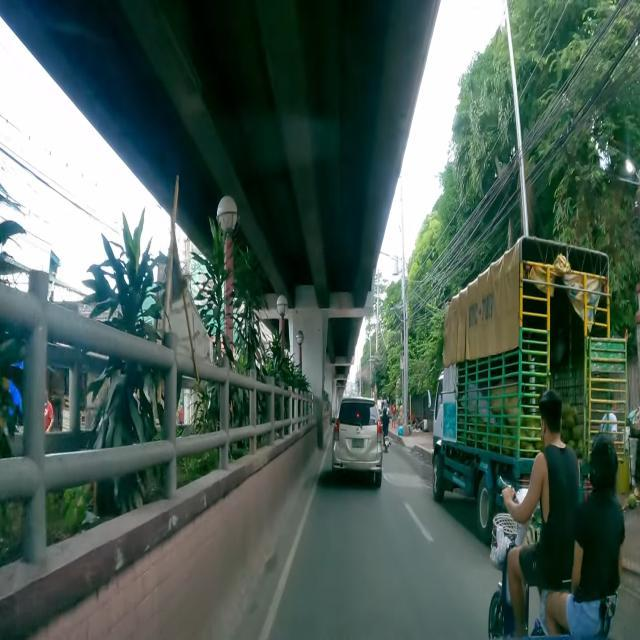car: (332, 397, 384, 493)
motorcycle: (489, 387, 626, 640), (379, 407, 392, 455)
truck: (432, 238, 627, 558)
